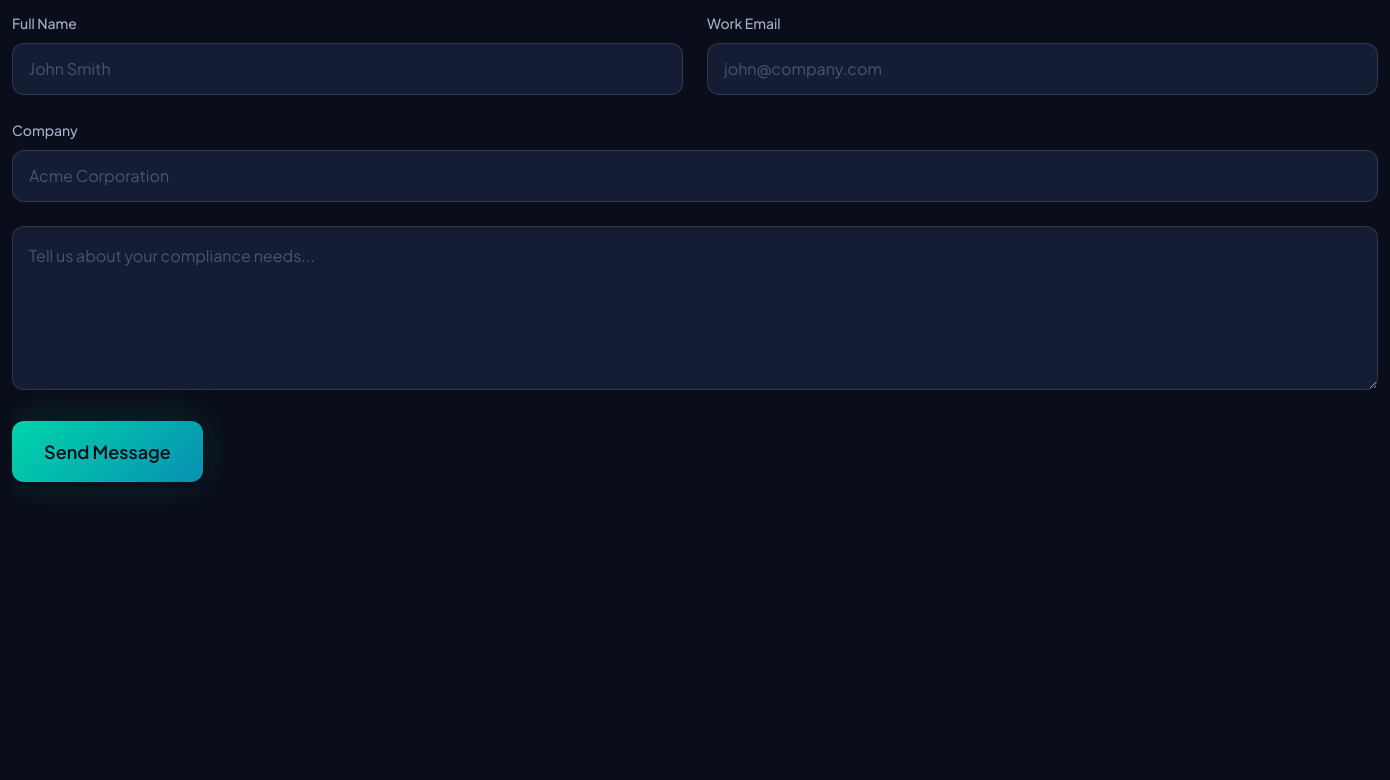
Test case: ContactForm › shows error when email is empty
This screenshot has width=1390, height=780.
In the field labelled "Full Name": (348, 69) top-left (12, 43), bottom-right (683, 95), type "John"
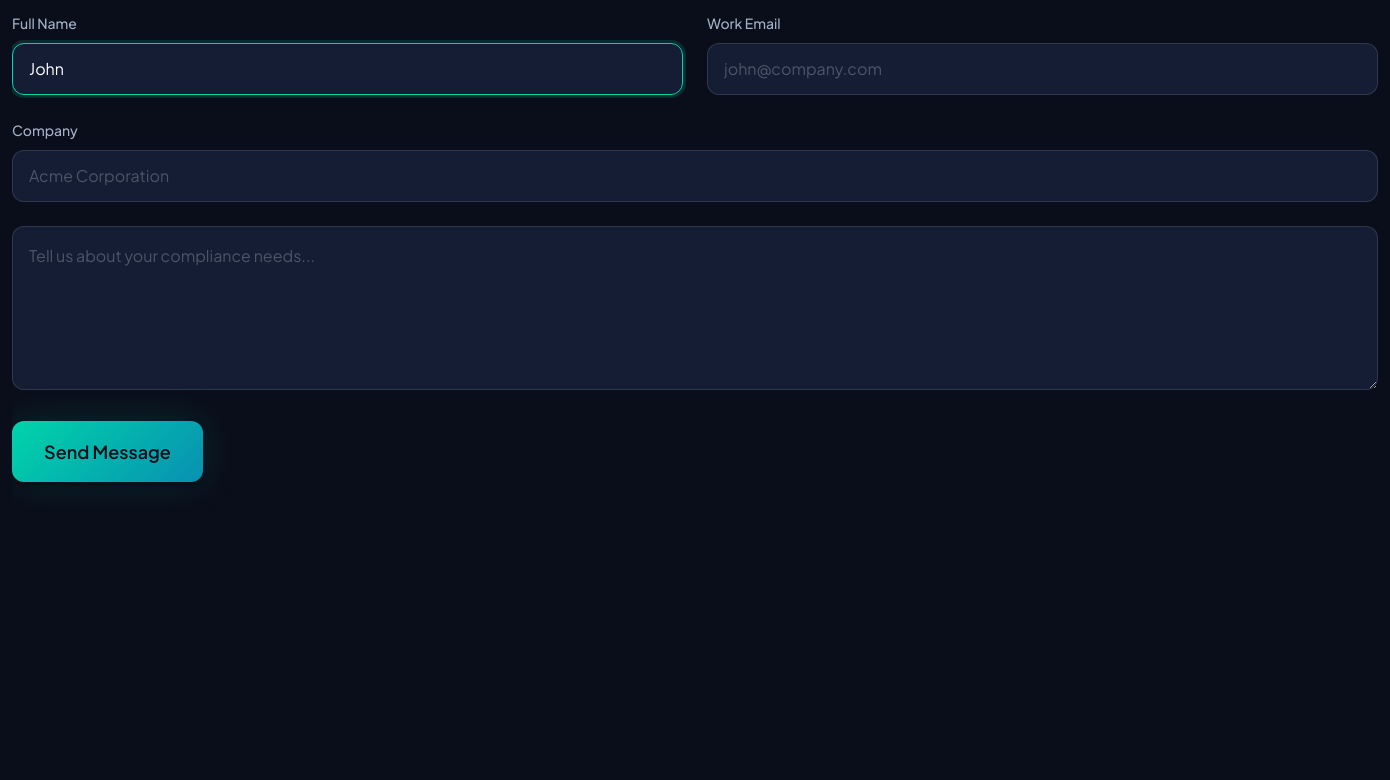
Click the button "Send Message": (107, 451) top-left (12, 420), bottom-right (203, 482)
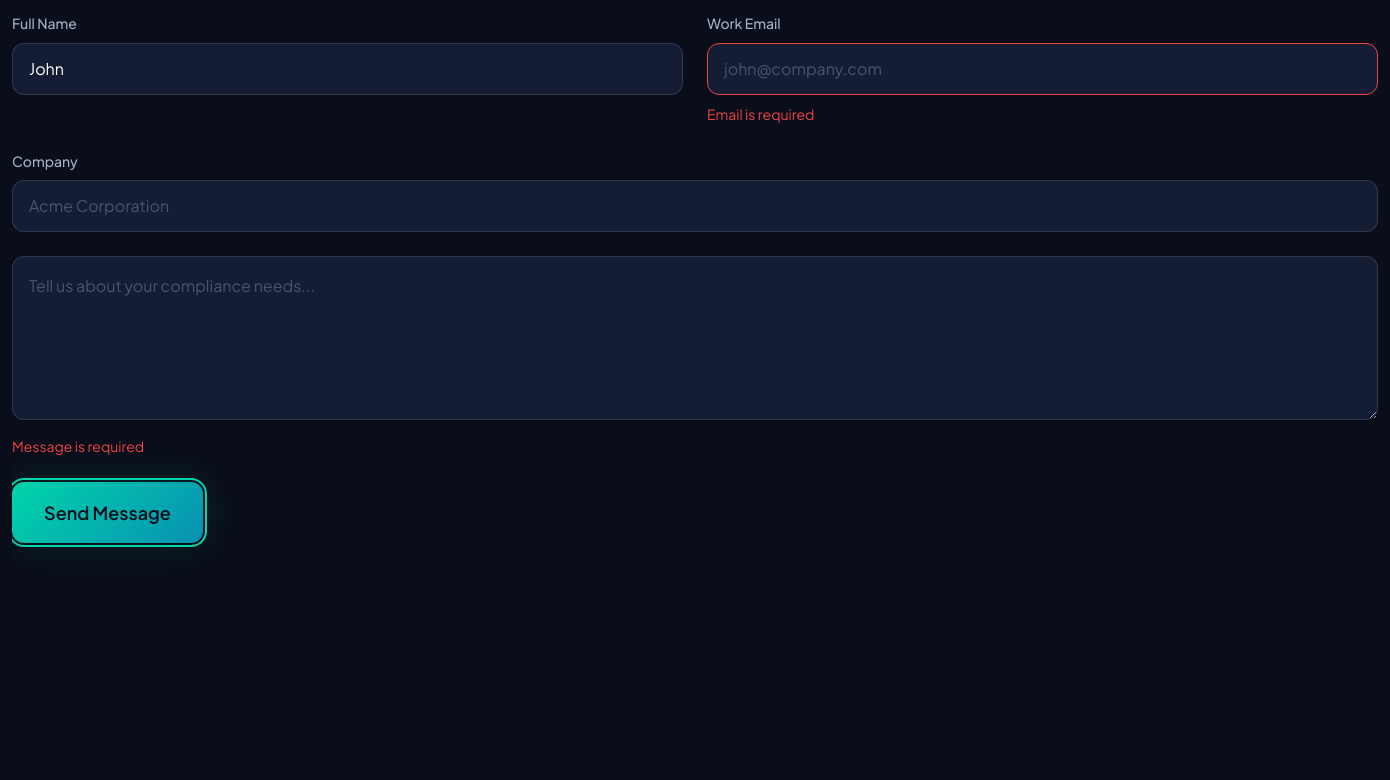
Expected: the text "Email is required" is shown, top-left (707, 105), bottom-right (814, 123)
